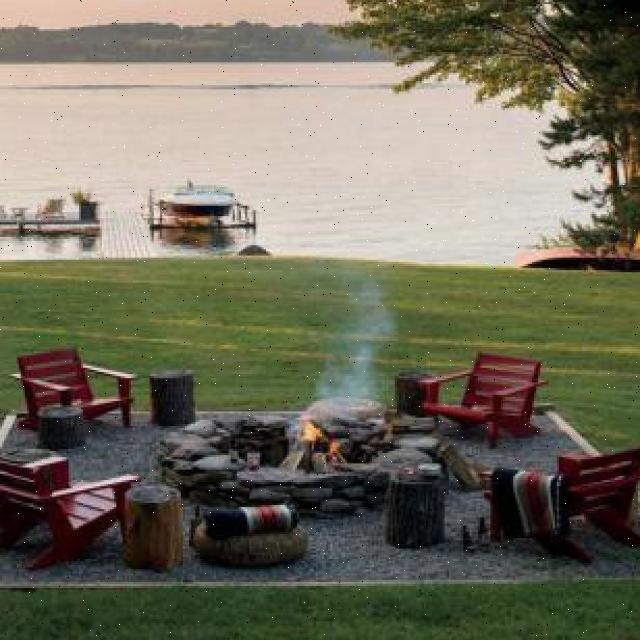fire: (295, 420, 351, 463)
smoke: (324, 295, 391, 409)
